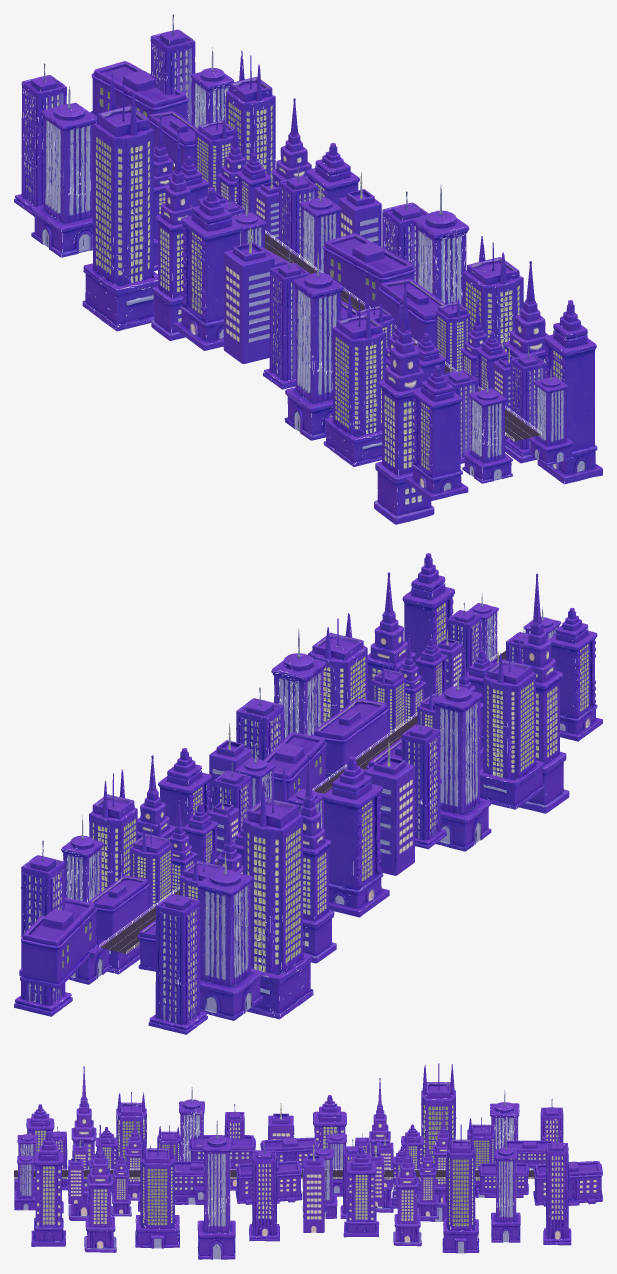
File: purple-city-scene.glb
The picture shows the model from 3 angles, top to bottom: view 1: azimuth 30°, elevation 25°; view 2: azimuth 150°, elevation 25°; view 3: azimuth 270°, elevation 25°; orthographic projection. The views are drawn at different scales.
Visible parts, largest first — view 1: Bld_BL_8, Bld_BL_9, Bld_BL_2, Bld_BL_1, Bld_BL_3, Bld_BL_6, Bld_BR_0, Bld_BL_0, Bld_BL_5, Bld_BL_7, Bld_BR_3, Bld_BR_2 (+34 smaller); view 2: Bld_BL_8, Bld_BL_2, Bld_BL_9, Bld_BL_6, Bld_BL_3, Bld_BL_10, Bld_BL_1, Bld_R_15, Bld_BL_0, Bld_BL_7, Bld_BL_5, Bld_BR_10 (+33 smaller); view 3: Bld_BR_2, Bld_BR_3, Bld_BR_8, Bld_BR_0, Bld_BR_1, Bld_BR_10, Bld_BR_6, Bld_BR_4, Bld_BL_8, Bld_BR_9, Bld_R_15, Bld_BR_7 (+37 smaller).
Boxes of the visible parts, x1,y1,x2,y2 form: Bld_BL_8: (82, 73, 158, 331); Bld_BL_9: (31, 86, 101, 257); Bld_BL_2: (323, 294, 390, 466); Bld_BL_1: (374, 280, 434, 524); Bld_BL_3: (284, 250, 344, 440); Bld_BL_6: (173, 187, 242, 350); Bld_BR_0: (537, 300, 602, 484); Bld_BL_0: (406, 365, 468, 500); Bld_BL_5: (223, 227, 274, 363); Bld_BL_7: (151, 128, 195, 340); Bld_BR_3: (413, 184, 469, 365); Bld_BR_2: (458, 236, 523, 368); Bld_BL_8: (239, 766, 313, 1019); Bld_BL_2: (480, 640, 544, 809); Bld_BL_9: (188, 852, 263, 1020); Bld_BL_6: (315, 756, 389, 917); Bld_BL_3: (428, 665, 491, 851); Bld_BL_10: (148, 883, 207, 1034); Bld_BL_1: (507, 573, 569, 813); Bld_R_15: (19, 897, 98, 988); Bld_BL_0: (549, 607, 602, 741); Bld_BL_7: (290, 754, 336, 963); Bld_BL_5: (365, 741, 415, 875); Bld_BR_10: (14, 840, 72, 1016); Bld_BR_2: (135, 1137, 179, 1248); Bld_BR_3: (197, 1120, 235, 1259); Bld_BR_8: (442, 1124, 479, 1253); Bld_BR_0: (31, 1131, 65, 1246); Bld_BR_1: (84, 1125, 116, 1252); Bld_BR_10: (543, 1131, 571, 1245); Bld_BR_6: (343, 1146, 379, 1237); Bld_BR_4: (249, 1142, 279, 1241); Bld_BL_8: (417, 1063, 460, 1221); Bld_BR_9: (491, 1135, 520, 1242); Bld_R_15: (533, 1161, 602, 1206); Bld_BR_7: (393, 1133, 421, 1246).
Bounding box in the file's own units: 115 × 124 × 438.
Materials: 7 (1 with a texture image).
